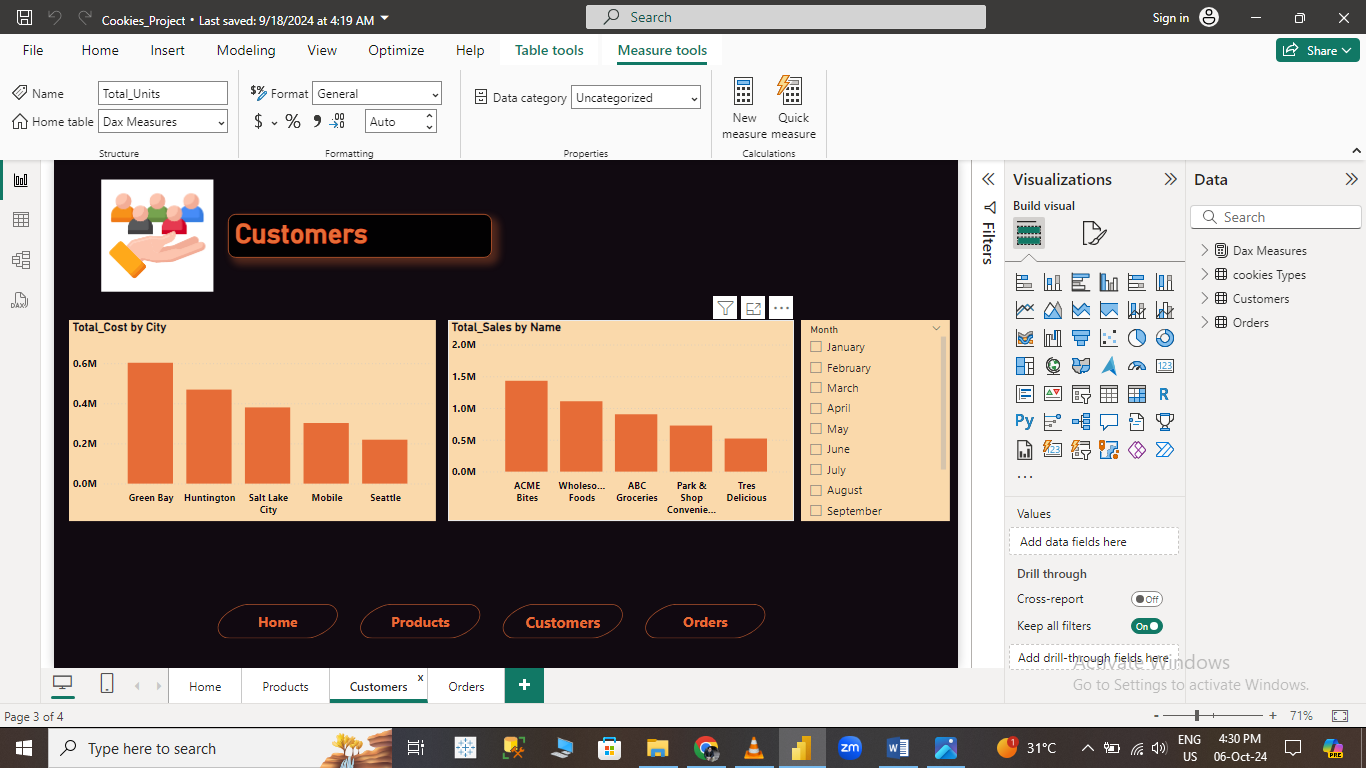

This screenshot's page, from the dashboard's own definition file:
{"tool":"powerbi","page":{"name":"Customers","canvas":[1280,720],"ordinal":2},"visuals":[{"type":"pageNavigator","box":[221.1,629.3,799.4,49.6],"z":0},{"type":"textbox","title":"Customers","box":[246.6,76.5,374.2,62.4],"z":1000},{"type":"image","box":[60.9,22.7,170.1,168.7],"z":2000},{"type":"clusteredColumnChart","fields":{"Category":["Customers.City"],"Y":["Dax Measures.Total_Cost"]},"box":[21.3,226.8,520.2,284.9],"z":3000},{"type":"clusteredColumnChart","fields":{"Y":["Dax Measures.Total_Sales"],"Category":["Customers.Name"]},"box":[558.4,226.8,490.4,284.9],"z":4000},{"type":"slicer","fields":{"Values":["Orders.Date.Variation.Date Hierarchy.Month"]},"box":[1058.7,226.8,211.2,284.9],"z":5000}]}

Visuals, with their boxes on the page's 1280x720 design canvas (x1, y1, x2, y2). These are canvas units, not pixel positions in the 1366x768 screenshot, which may show the page scaled, cropped or inside an application window:
pageNavigator: [left=221, top=629, right=1020, bottom=679]
"Customers" textbox: [left=247, top=76, right=621, bottom=139]
image: [left=61, top=23, right=231, bottom=191]
clusteredColumnChart - Customers.City x Dax Measures.Total_Cost: [left=21, top=227, right=542, bottom=512]
clusteredColumnChart - Dax Measures.Total_Sales x Customers.Name: [left=558, top=227, right=1049, bottom=512]
slicer - Orders.Date.Variation.Date Hierarchy.Month: [left=1059, top=227, right=1270, bottom=512]
